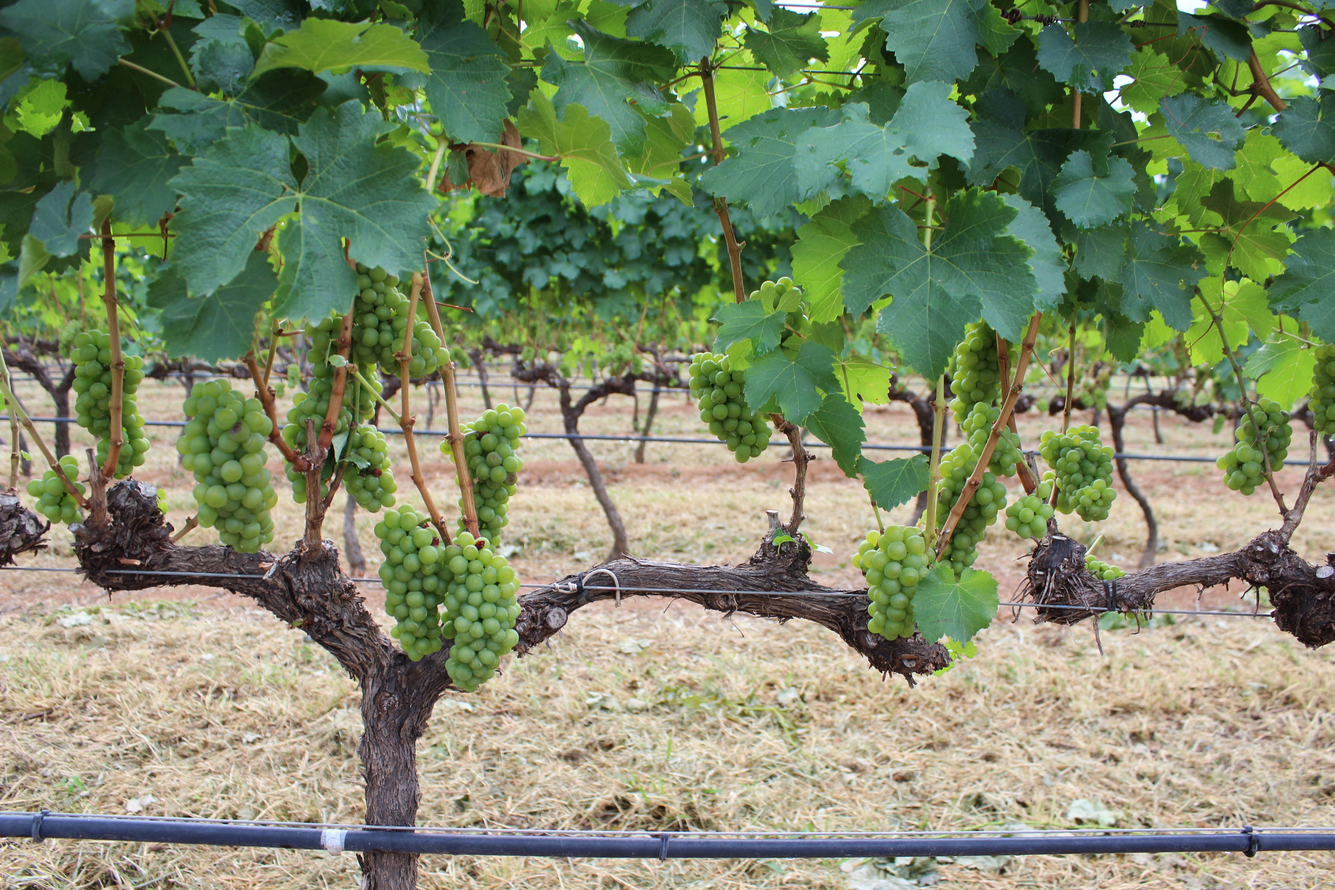leaf: (841, 190, 1038, 379), (793, 81, 974, 201), (170, 125, 299, 293), (542, 22, 675, 154), (699, 106, 841, 216), (147, 71, 327, 155), (148, 251, 277, 362), (418, 0, 512, 143), (518, 92, 632, 207), (853, 0, 987, 82), (0, 0, 134, 82), (85, 118, 187, 225), (791, 196, 870, 323), (255, 18, 430, 74), (1119, 220, 1205, 331), (744, 340, 840, 425), (1268, 228, 1335, 342), (1003, 195, 1067, 311), (913, 565, 999, 644), (1037, 22, 1134, 92), (1051, 150, 1137, 228), (1161, 93, 1246, 170), (626, 0, 726, 64), (744, 7, 829, 77), (804, 391, 865, 478), (1244, 336, 1315, 409), (28, 180, 93, 257), (1272, 91, 1335, 164), (857, 454, 929, 510), (713, 299, 785, 355), (247, 50, 248, 51), (1290, 322, 1291, 323)
